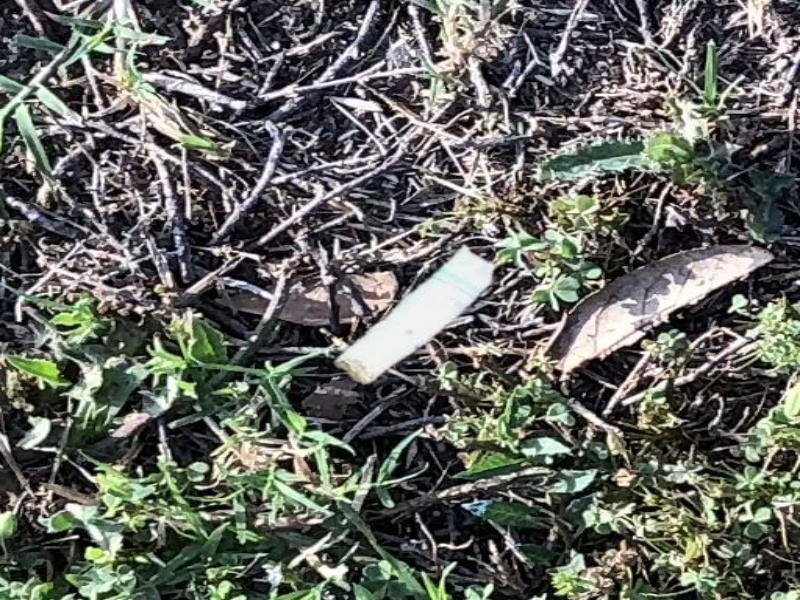cig: (340, 235, 492, 384)
